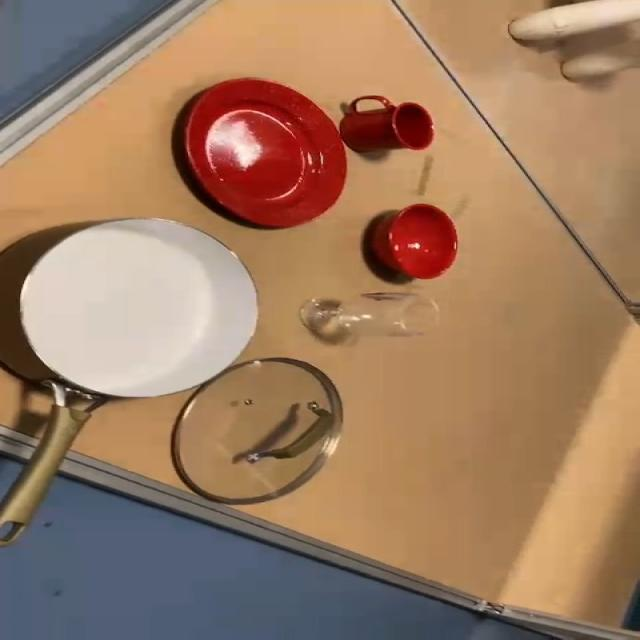Bowl: (374, 208, 468, 279)
Glass: (308, 292, 447, 342)
Plate: (177, 74, 345, 229)
cup: (335, 91, 442, 154)
pot: (13, 217, 260, 530)
